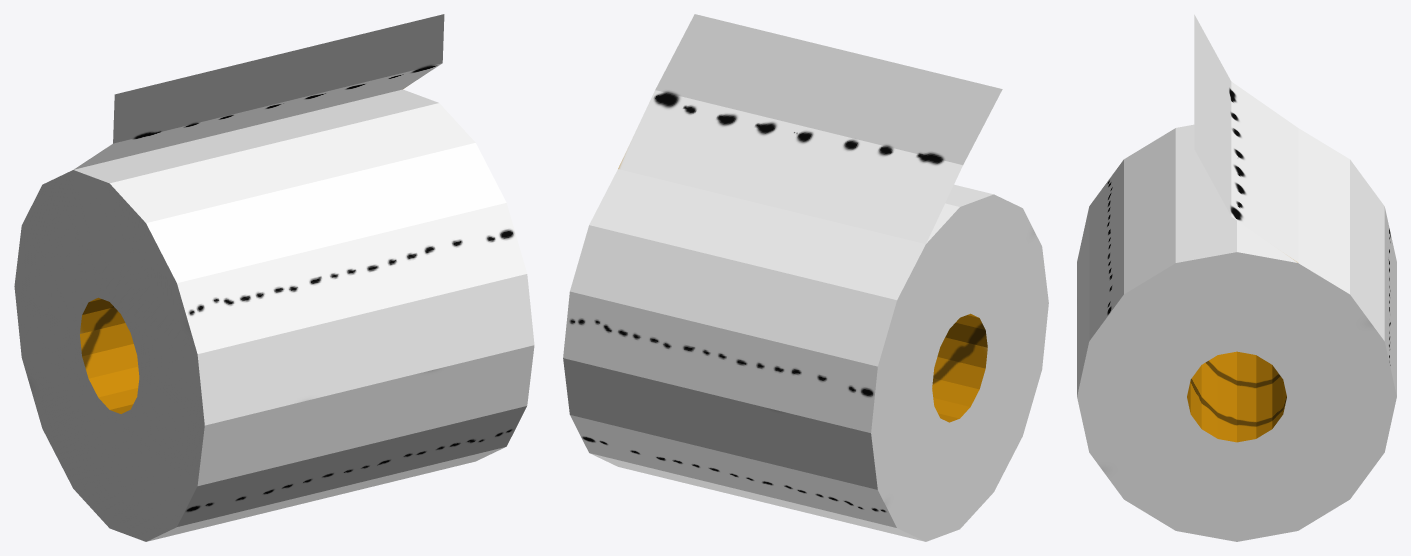
Rendered from paper.glb.
The picture shows the model from 3 angles, left to right: view 1: azimuth 30°, elevation 25°; view 2: azimuth 150°, elevation 25°; view 3: azimuth 270°, elevation 25°; orthographic projection. The views are drawn at different scales.
Parts seen in each view (by area): view 1: R, L; view 2: R, L; view 3: R, L.
Part boxes in pixels (x1=…): R: x1=14, y1=14, x2=534, y2=425; L: x1=14, y1=286, x2=534, y2=541; R: x1=563, y1=14, x2=1048, y2=432; L: x1=563, y1=303, x2=1048, y2=541; R: x1=1077, y1=14, x2=1396, y2=396; L: x1=1077, y1=351, x2=1396, y2=541.
Size of the model in its own units: 2.12 by 2.65 by 2.
Materials: 1 (1 with a texture image).
